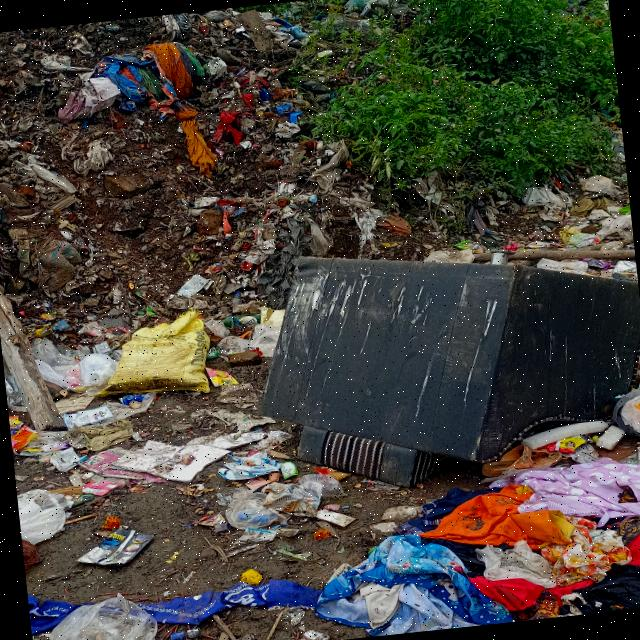garbage: (0, 1, 349, 564), (318, 175, 640, 637)
